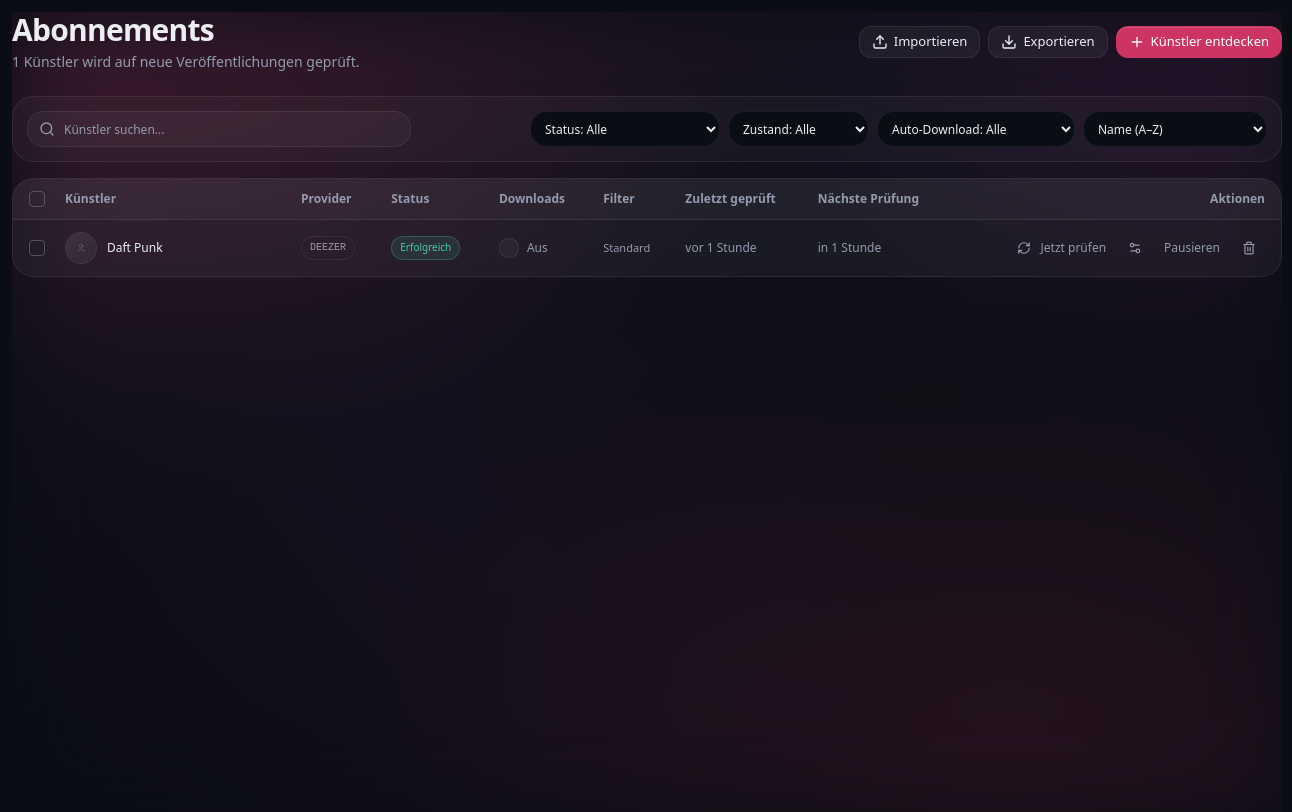
Test: Subscriptions page › pauses and resumes a subscription
Click the button "Pausieren" at (1192, 248), box [1155, 234, 1229, 262]
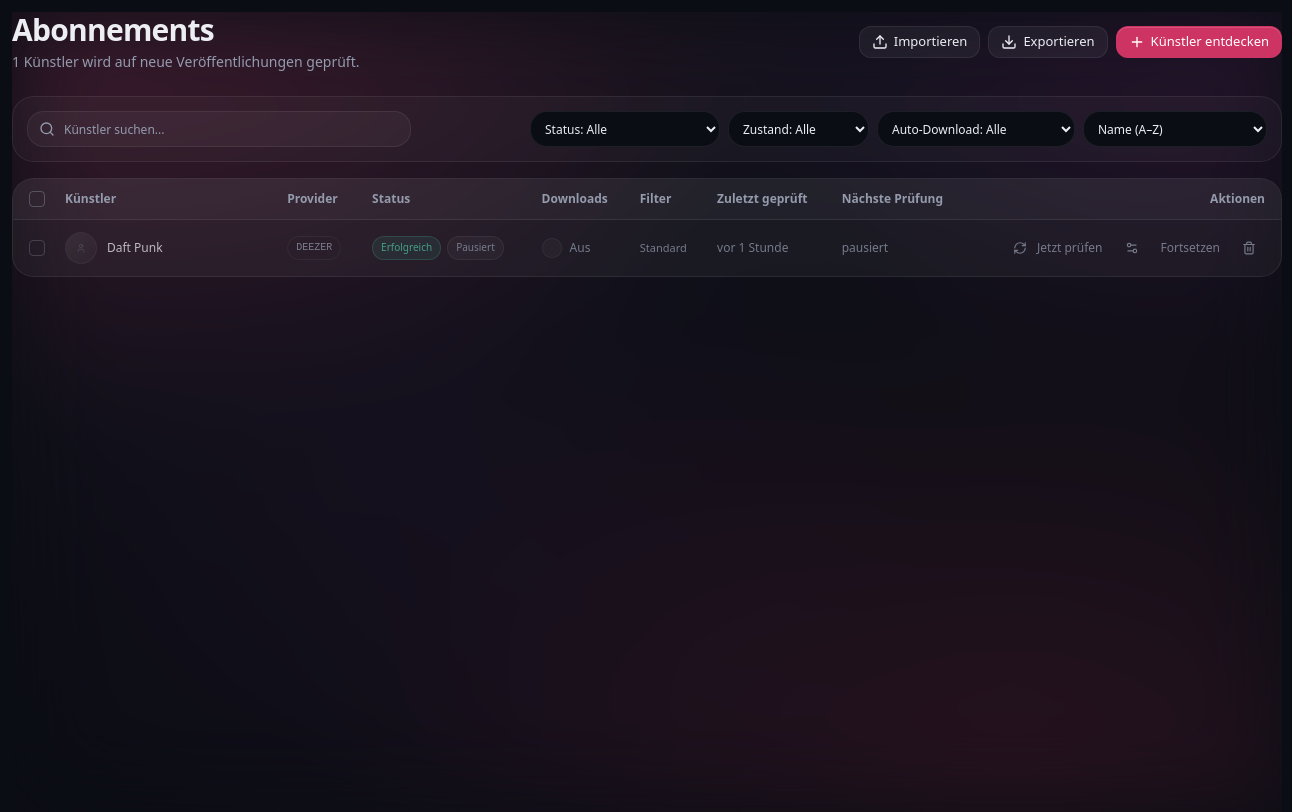
Expected: the button "Fortsetzen" is shown, [1152, 234, 1229, 262]
